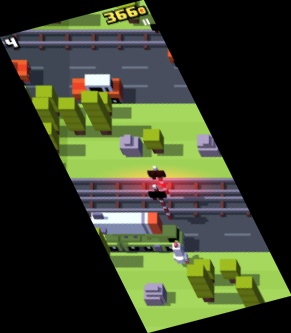car: (72, 74, 123, 102), (1, 58, 32, 85)
duck: (172, 241, 192, 266)
light off: (147, 186, 177, 220)
light on: (147, 166, 176, 202)
rail: (70, 196, 254, 218), (1, 28, 172, 50), (65, 178, 245, 197)
rock: (196, 132, 222, 157), (142, 282, 168, 306), (120, 135, 142, 157)
tree: (79, 91, 114, 135), (185, 265, 217, 302), (236, 277, 266, 315), (58, 98, 85, 136), (32, 99, 59, 133), (36, 122, 61, 154), (35, 86, 60, 118), (219, 258, 241, 285), (117, 1, 140, 26), (142, 130, 165, 154), (91, 92, 114, 116), (193, 259, 217, 281)
truck: (85, 213, 189, 253)
